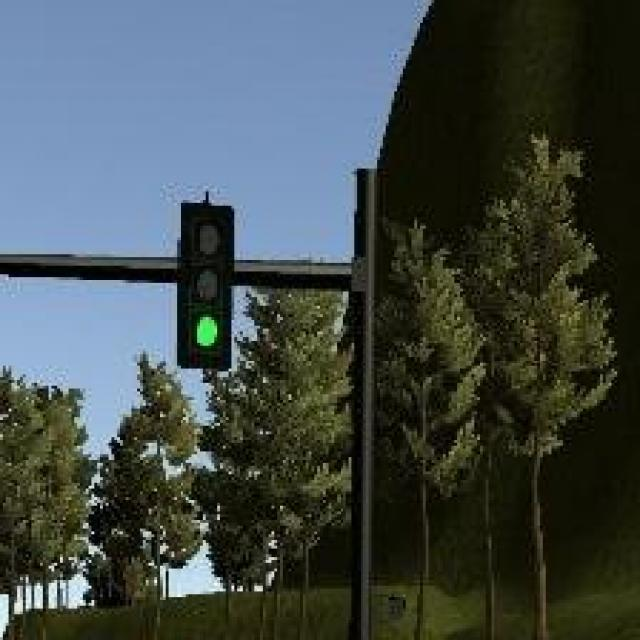green_light: (180, 203, 235, 368)
